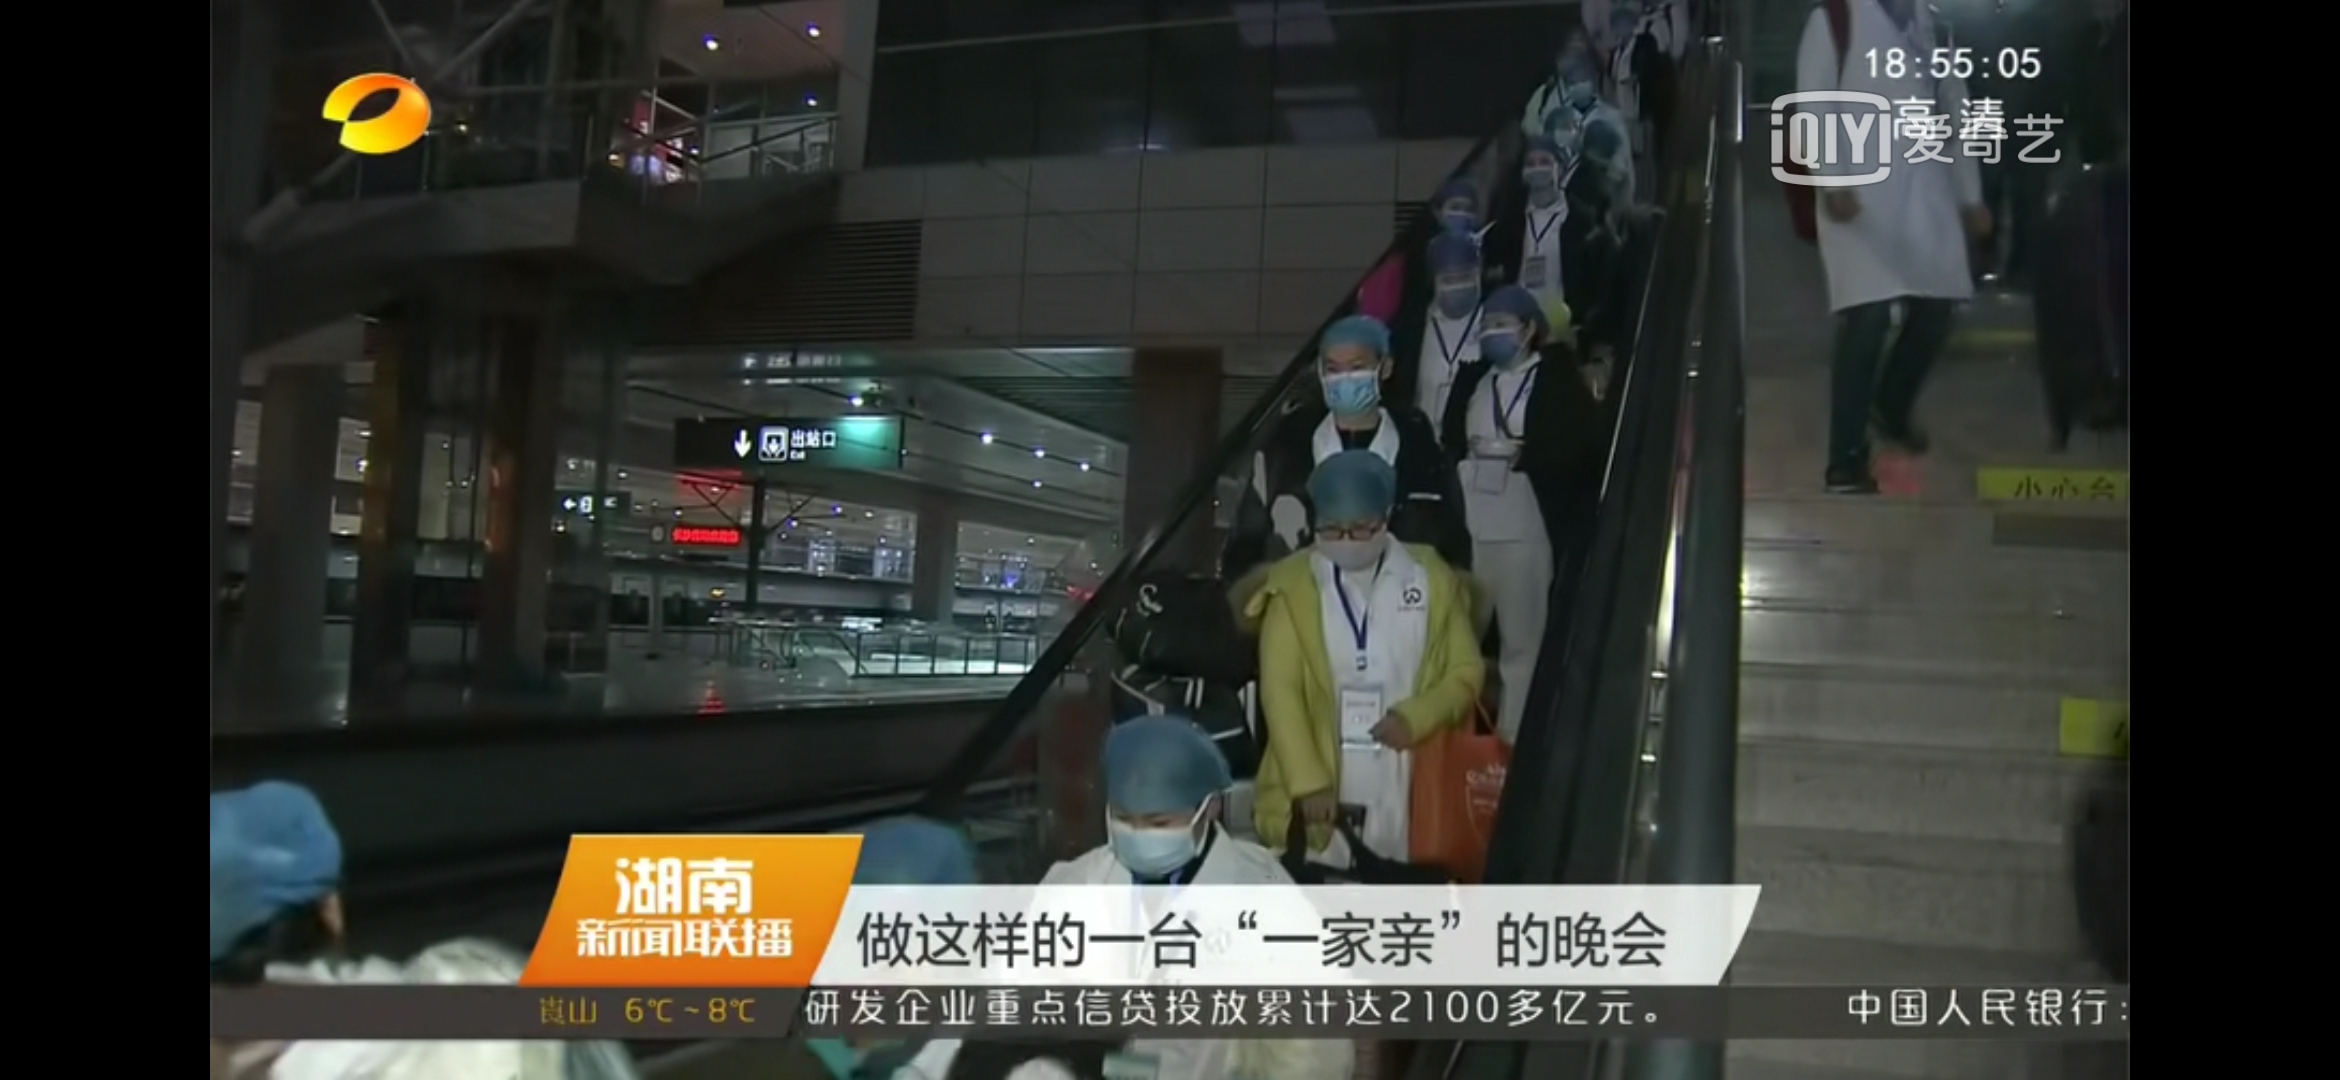correctlyWear: (1098, 794, 1225, 882), (1304, 509, 1398, 573), (1321, 349, 1386, 422), (1480, 310, 1539, 367), (1437, 269, 1479, 322), (1433, 197, 1482, 234), (1522, 157, 1560, 197), (1562, 66, 1595, 107), (1548, 112, 1580, 148)
